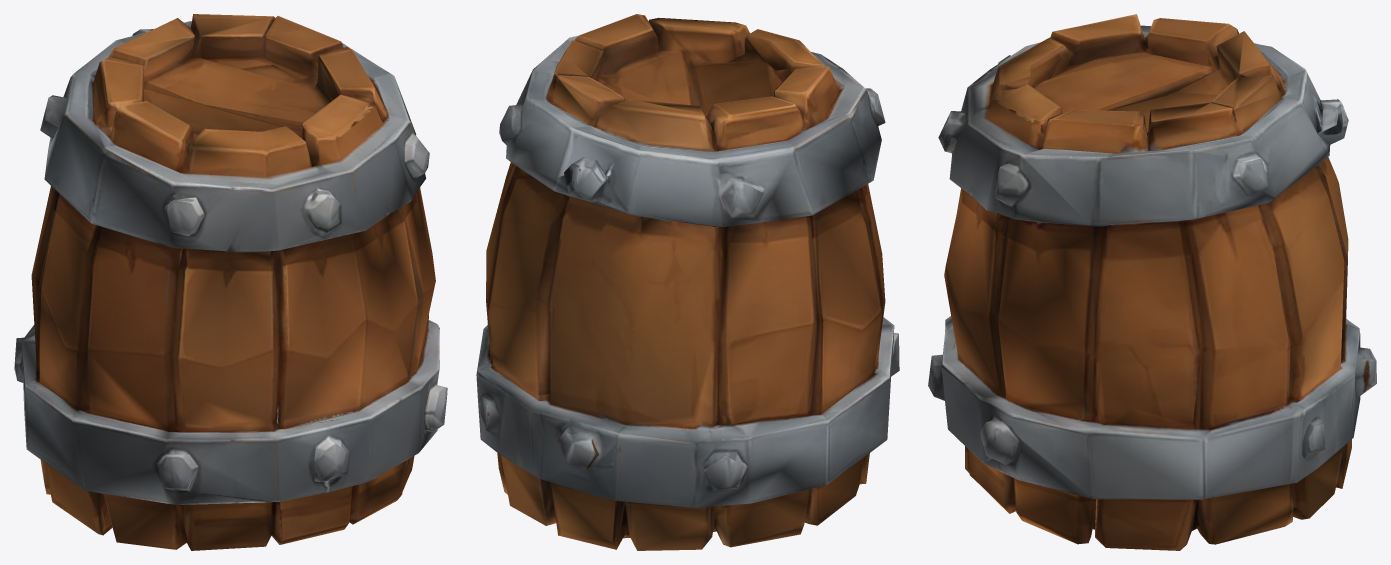
File: dec_barrel.glb
3 renders of one model, left to right at view 1: azimuth 30°, elevation 25°; view 2: azimuth 150°, elevation 25°; view 3: azimuth 270°, elevation 25°, orthographic.
Parts seen in each view (by area): view 1: BakeLow; view 2: BakeLow; view 3: BakeLow.
Boxes of the visible parts, x1=… form: BakeLow: x1=14, y1=14, x2=447, y2=550; BakeLow: x1=476, y1=14, x2=899, y2=550; BakeLow: x1=928, y1=14, x2=1376, y2=550.
Bounding box in the file's own units: 0.6964 × 0.766 × 0.7522.
Materials: 1 (1 with a texture image).
